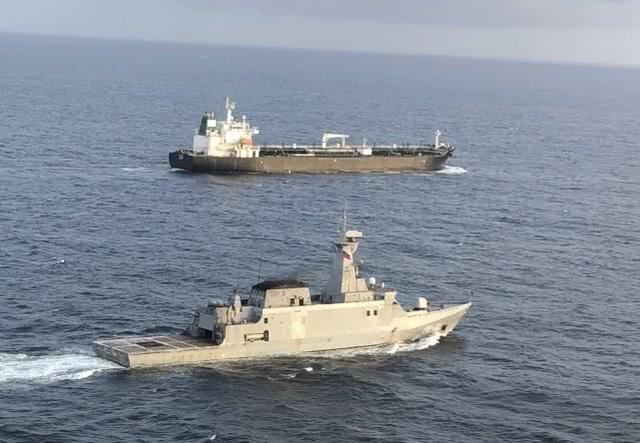Cargoship: (172, 101, 453, 174)
warship: (90, 229, 474, 377)
